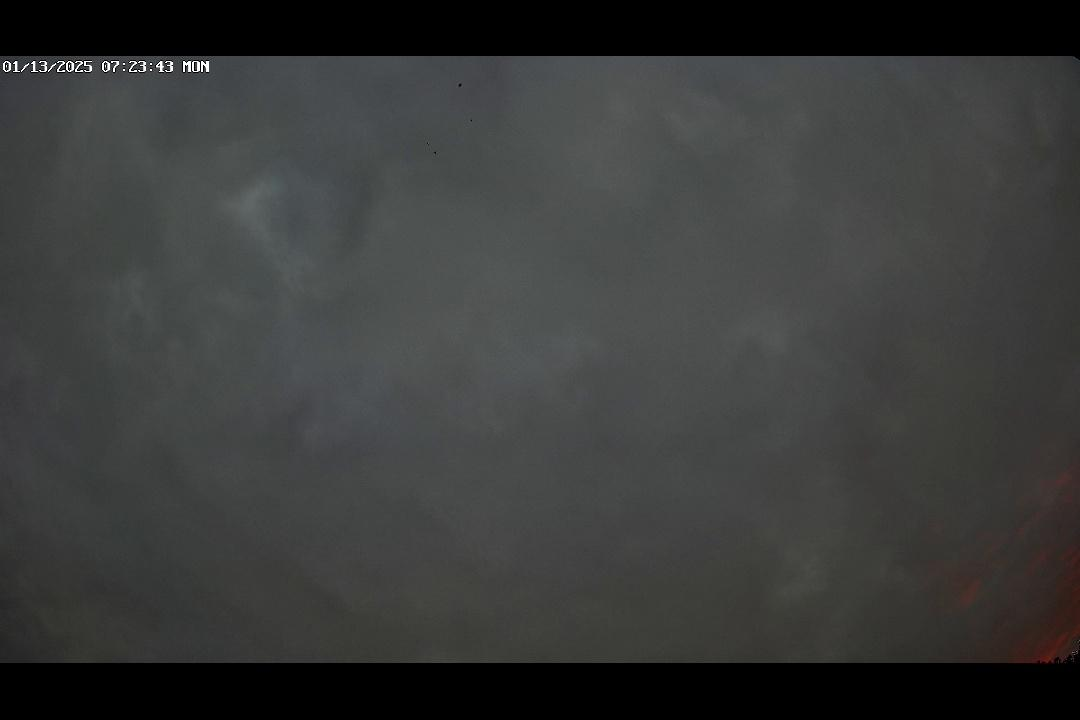WildLife: (421, 137, 435, 148), (428, 148, 443, 157), (454, 80, 467, 89), (465, 118, 477, 124)
